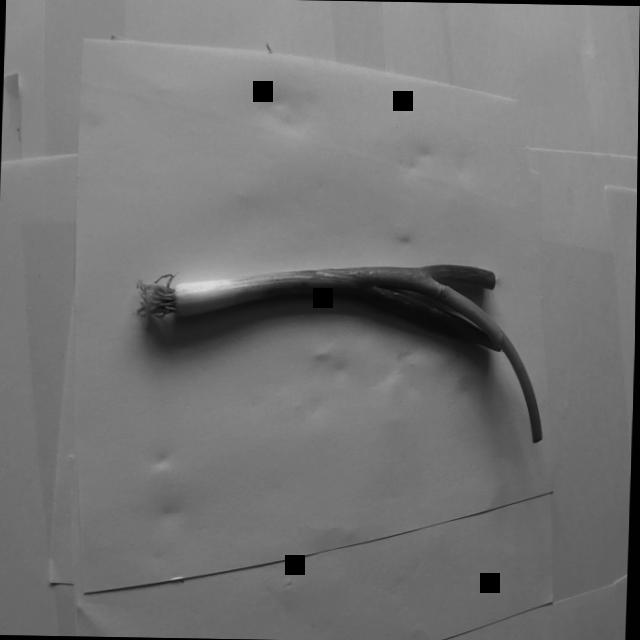Springonion: (126, 246, 558, 451)
